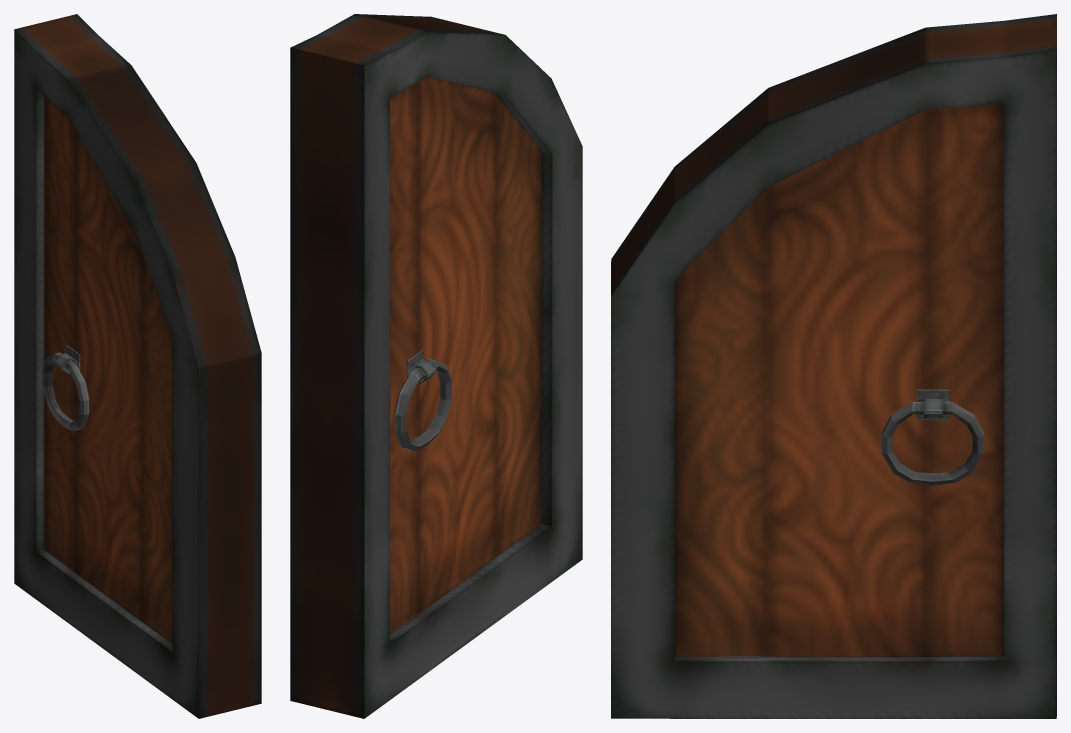
Rendered from double_door.obj.
The picture shows the model from 3 angles, left to right: view 1: azimuth 30°, elevation 25°; view 2: azimuth 150°, elevation 25°; view 3: azimuth 270°, elevation 25°; orthographic projection. The views are drawn at different scales.
Visible parts, largest first — view 1: Puerta_doble.001_Cube.023; view 2: Puerta_doble.001_Cube.023; view 3: Puerta_doble.001_Cube.023.
Boxes of the visible parts, <box> form: Puerta_doble.001_Cube.023: <box>14,14,261,718</box>; Puerta_doble.001_Cube.023: <box>290,14,582,718</box>; Puerta_doble.001_Cube.023: <box>611,14,1056,718</box>.
Bounding box in the file's own units: 0.4322 × 3.01 × 1.82.
